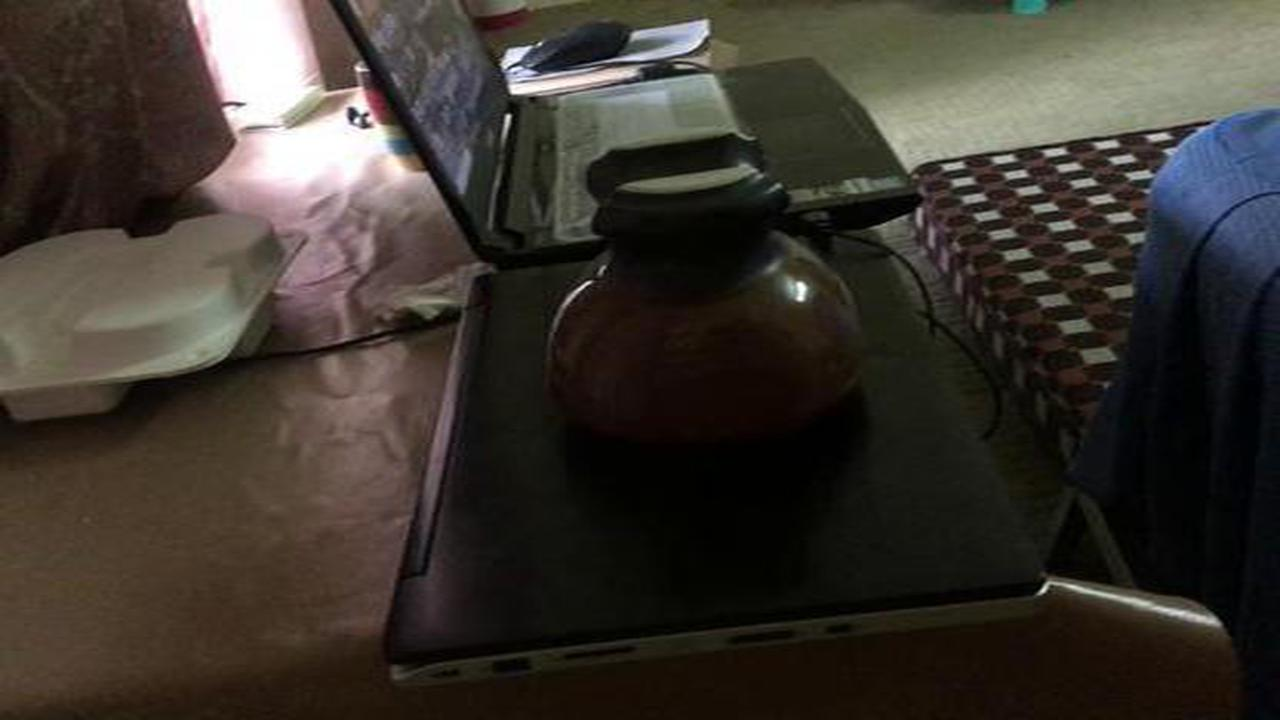insulator_pin: (521, 123, 887, 482)
